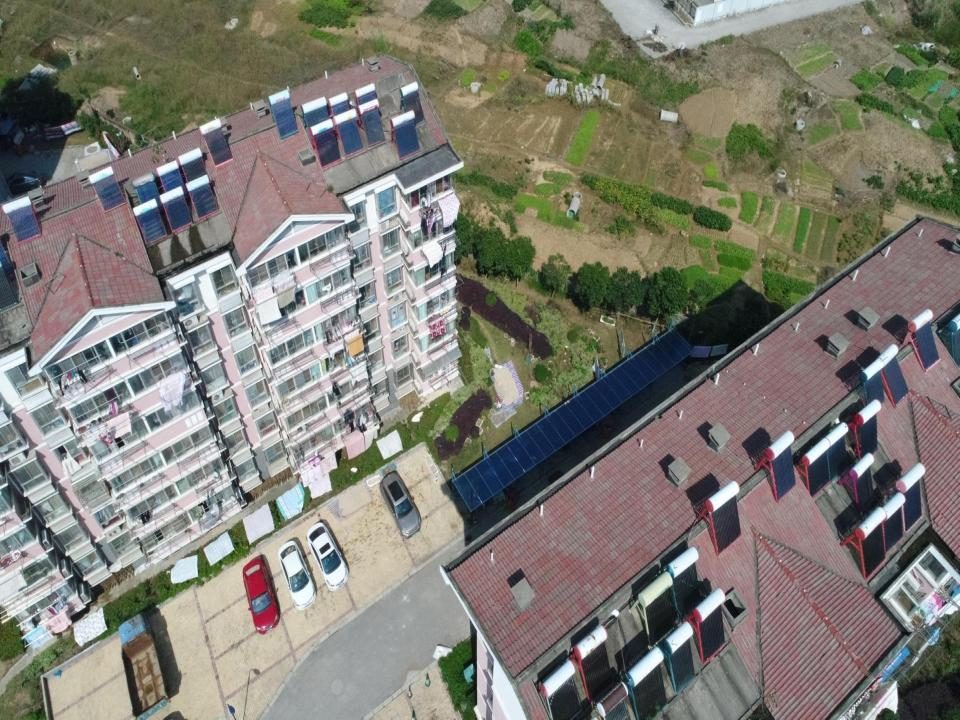car: (238, 558, 280, 636), (306, 522, 349, 591), (379, 471, 422, 538), (278, 540, 317, 610), (6, 170, 44, 195)
truck: (118, 612, 170, 719)
